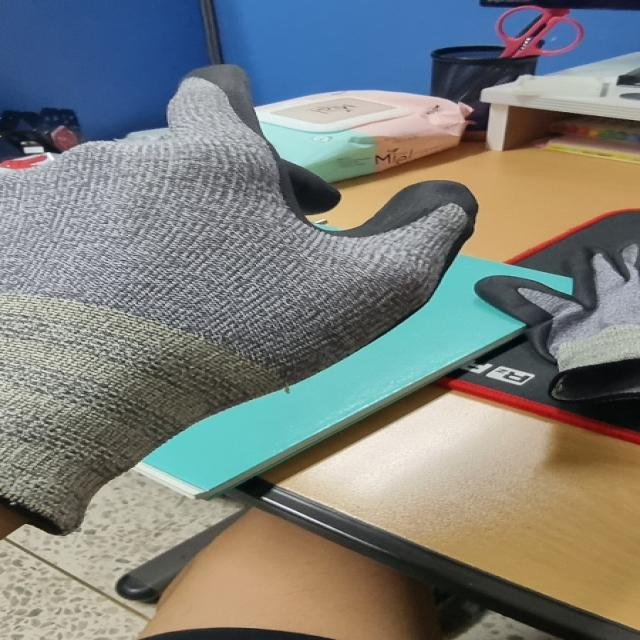Gloves: (0, 63, 470, 520), (466, 234, 637, 406)
